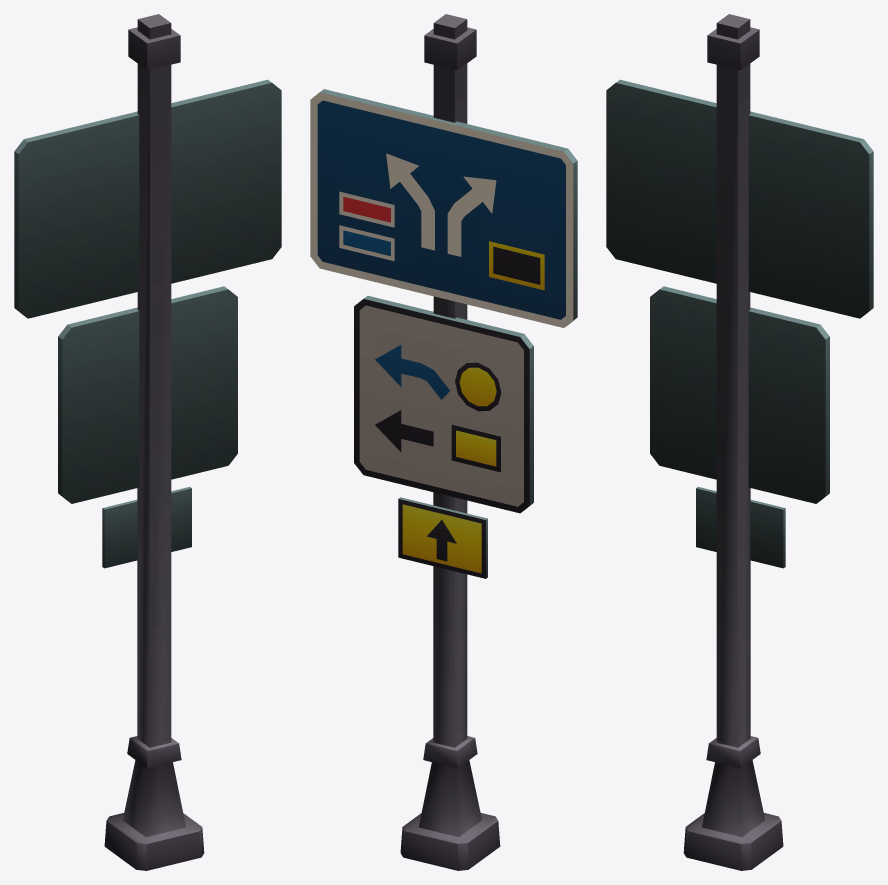
Rendered from tp_signpost_01a.glb.
3 renders of one model, left to right at view 1: azimuth 30°, elevation 25°; view 2: azimuth 150°, elevation 25°; view 3: azimuth 330°, elevation 25°, orthographic.
Visible parts, largest first — view 1: TP_Signpost_01A; view 2: TP_Signpost_01A; view 3: TP_Signpost_01A.
Part boxes in pixels (x1,y1,x2,y2): TP_Signpost_01A: (14, 14, 281, 870); TP_Signpost_01A: (310, 14, 577, 870); TP_Signpost_01A: (606, 14, 873, 870).
Size of the model in its own units: 1.6 by 4.82 by 0.4144.
1 material, 1 textured.
